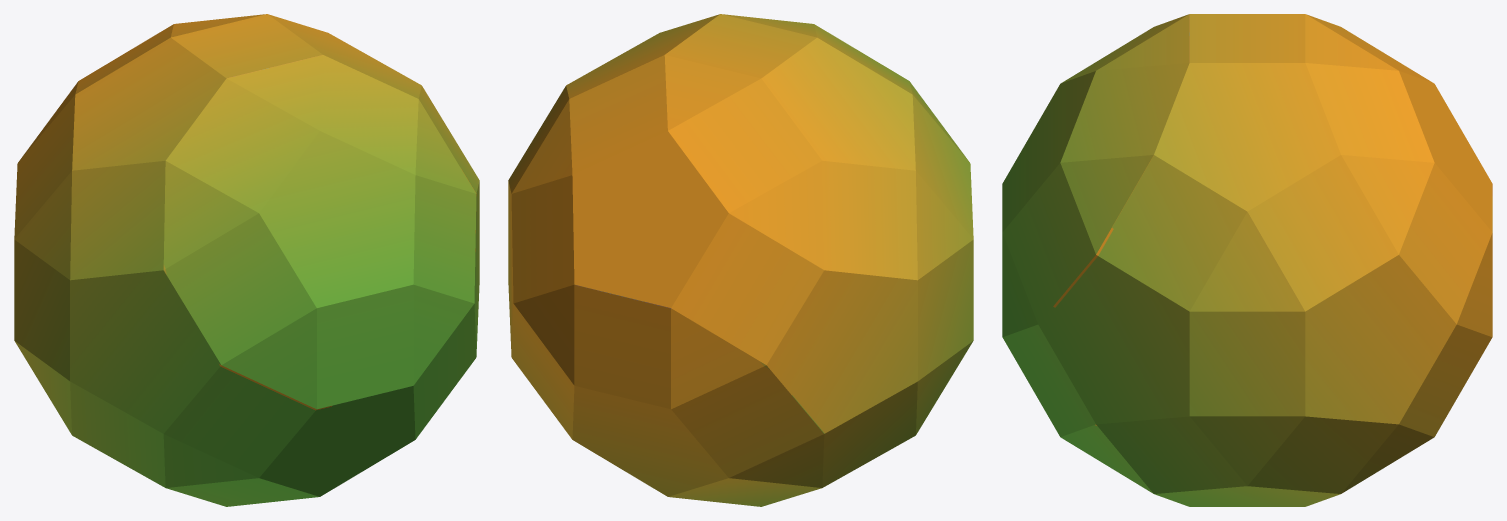
File: Rhombicosidodecahedron.glb
3 views of the same model, side by side, from view 1: azimuth 30°, elevation 25°; view 2: azimuth 150°, elevation 25°; view 3: azimuth 270°, elevation 25° (orthographic). The views are drawn at different scales.
Visible parts, largest first — view 1: Rhombicosidodecahedron; view 2: Rhombicosidodecahedron; view 3: Rhombicosidodecahedron.
Part boxes in pixels (<box>): Rhombicosidodecahedron: <box>14,14,479,506</box>; Rhombicosidodecahedron: <box>508,14,973,506</box>; Rhombicosidodecahedron: <box>1002,14,1492,506</box>.
Size of the model in its own units: 1.62 by 1.62 by 1.62.
1 material, 1 textured.
